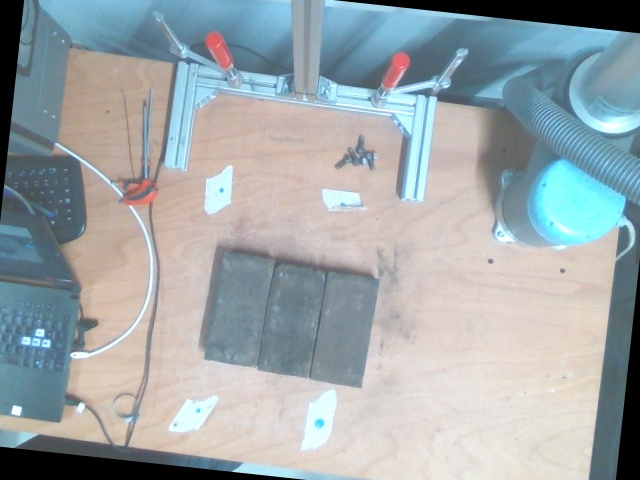brick: (255, 261, 327, 379), (203, 251, 274, 369), (310, 271, 379, 389)
